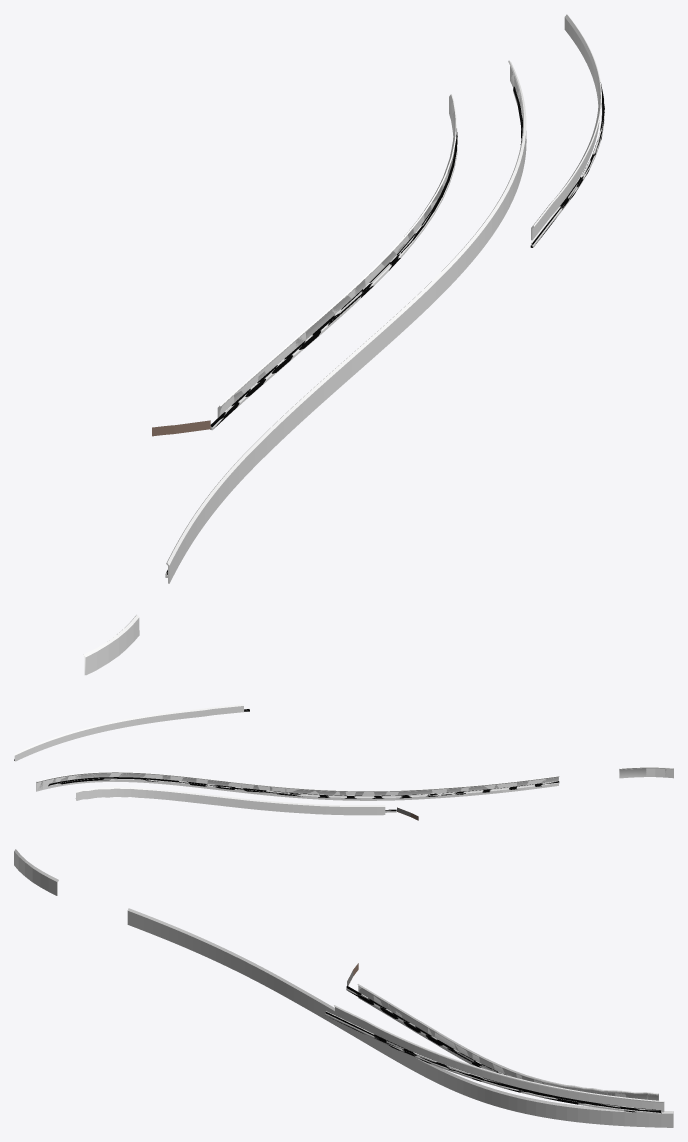
The model's file is port_barriers1.dae.
The picture shows the model from 3 angles, top to bottom: view 1: azimuth 30°, elevation 25°; view 2: azimuth 150°, elevation 25°; view 3: azimuth 270°, elevation 25°; orthographic projection. The views are drawn at different scales.
Visible parts, largest first — view 1: Colmesh-1, port_barriers1_a3000, port_barriers1_a1000; view 2: Colmesh-1, port_barriers1_a3000, port_barriers1_a1000; view 3: Colmesh-1, port_barriers1_a3000, port_barriers1_a1000.
Part boxes in pixels (<box>): Colmesh-1: <box>84,14,601,675</box>; port_barriers1_a3000: <box>83,73,604,674</box>; port_barriers1_a1000: <box>165,82,604,574</box>; Colmesh-1: <box>14,704,673,816</box>; port_barriers1_a3000: <box>14,708,673,820</box>; port_barriers1_a1000: <box>14,709,559,811</box>; Colmesh-1: <box>14,849,673,1127</box>; port_barriers1_a3000: <box>325,963,663,1114</box>; port_barriers1_a1000: <box>325,985,661,1113</box>.
Bounding box in the file's own units: 214 × 174 × 31.47.
